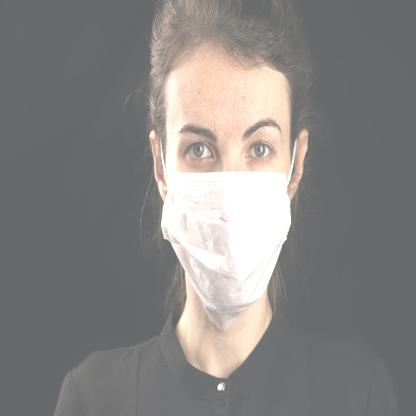dress: (159, 142, 296, 331)
